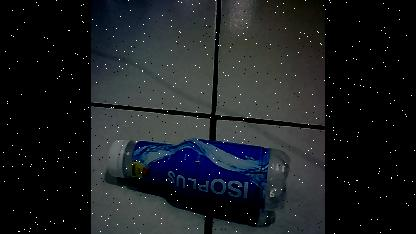Plastic Bottle: (100, 134, 296, 218)
